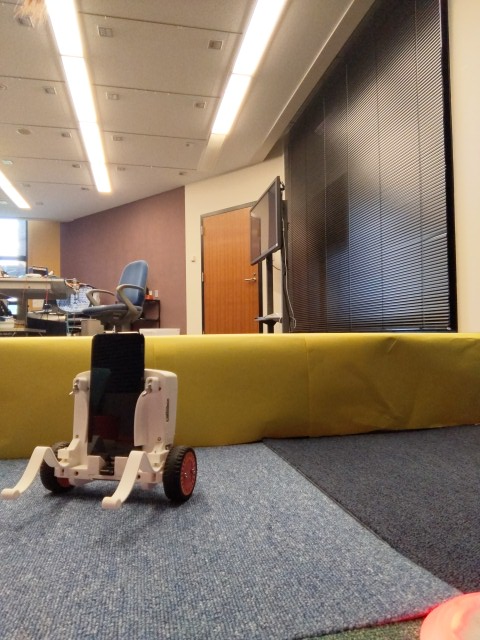f: (1, 332, 195, 519)
